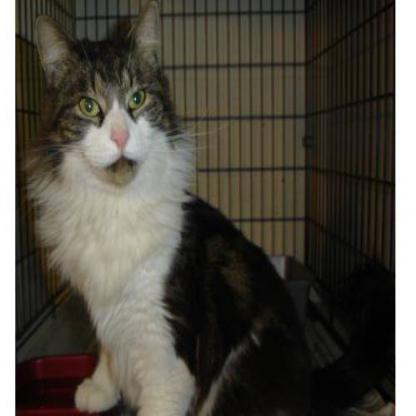cat: (33, 23, 265, 383)
